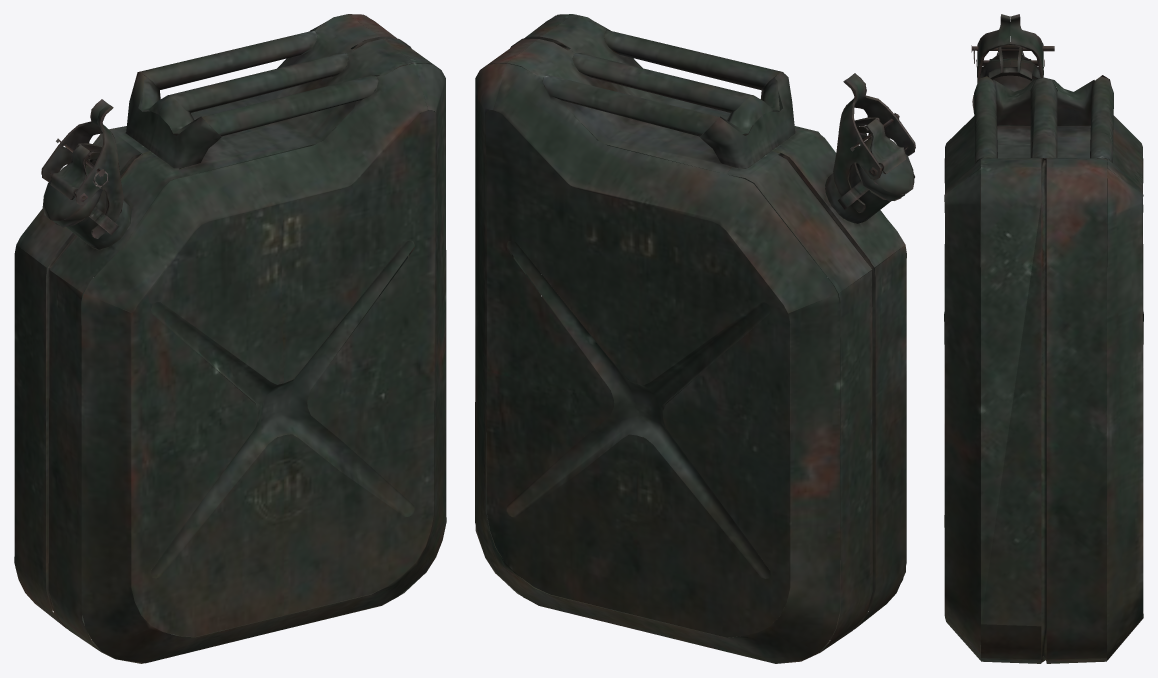
File: metal_jerrycan_green.glb
3 renders of one model, left to right at view 1: azimuth 30°, elevation 25°; view 2: azimuth 150°, elevation 25°; view 3: azimuth 270°, elevation 25°, orthographic. The views are drawn at different scales.
Parts seen in each view (by area): view 1: metal_jerrycan_green_pin; view 2: metal_jerrycan_green_pin; view 3: metal_jerrycan_green_pin.
Boxes of the visible parts, bbox=[...] form: metal_jerrycan_green_pin: bbox=[14, 14, 446, 663]; metal_jerrycan_green_pin: bbox=[475, 14, 915, 663]; metal_jerrycan_green_pin: bbox=[944, 14, 1143, 663].
Size of the model in its own units: 0.361 by 0.5 by 0.1724.
1 material, 1 textured.
